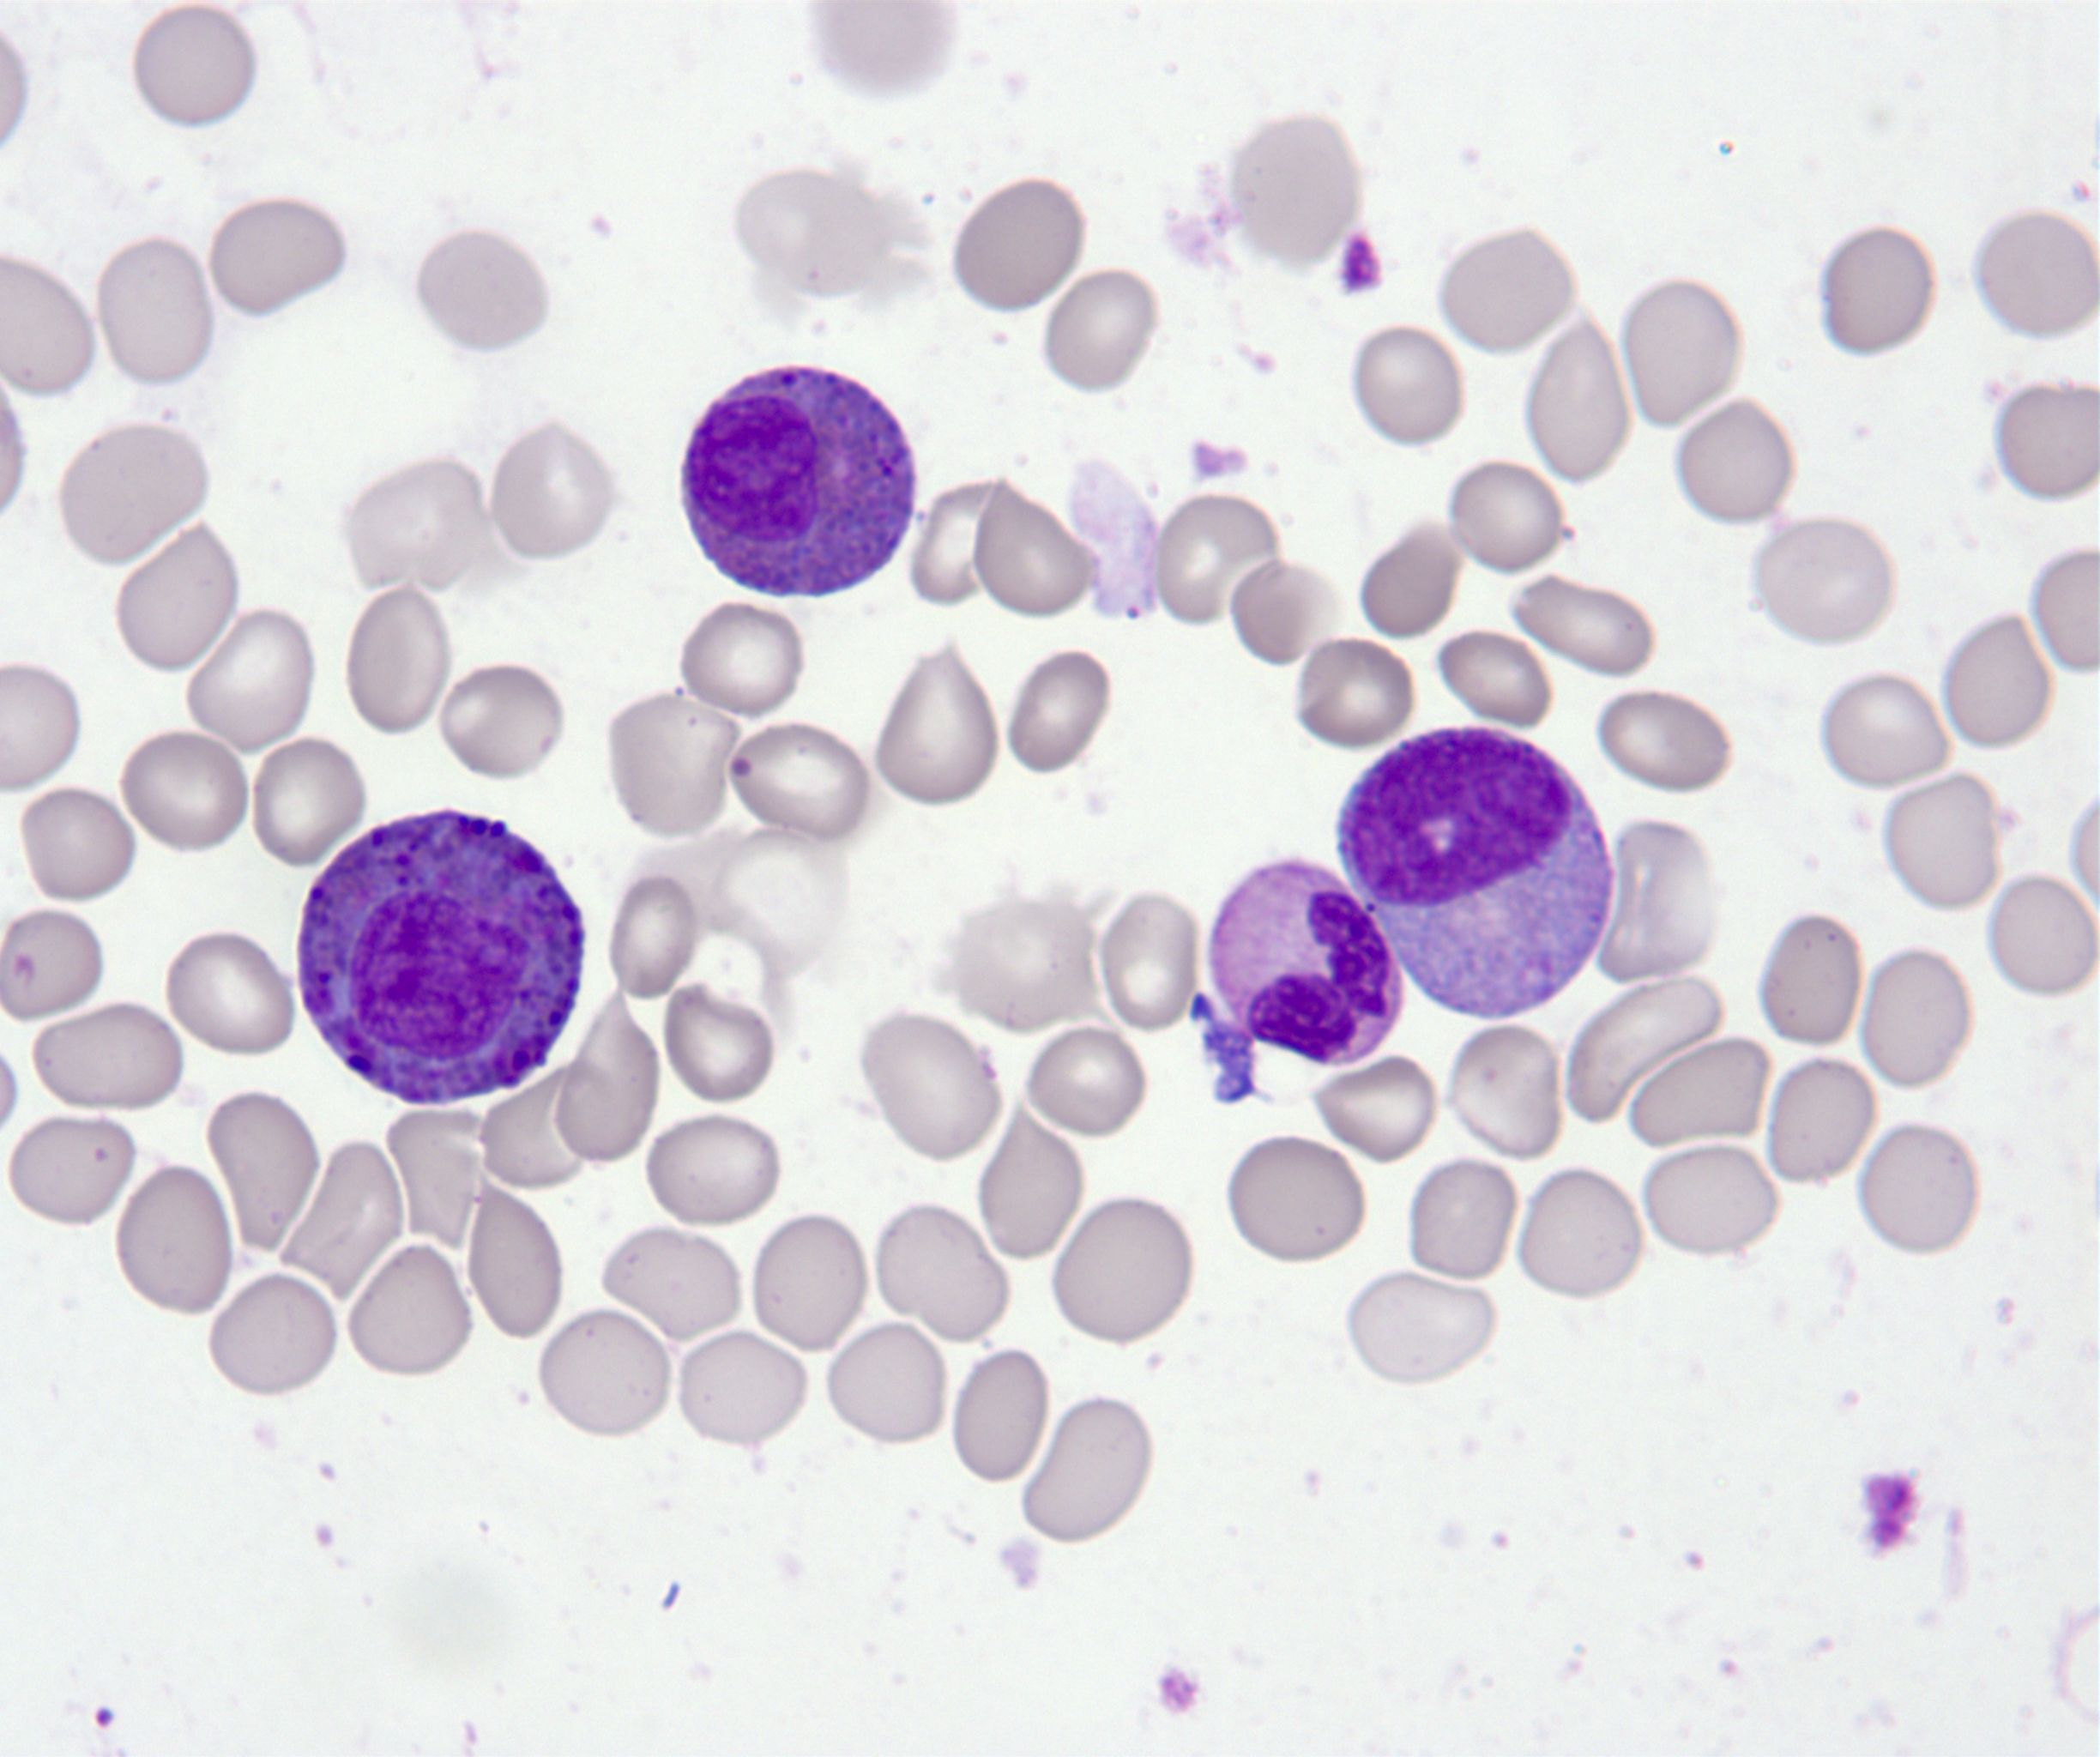3: (1336, 724, 1612, 1019)
6: (1209, 858, 1402, 1061)
E1: (298, 810, 583, 1104), (680, 365, 914, 598)
